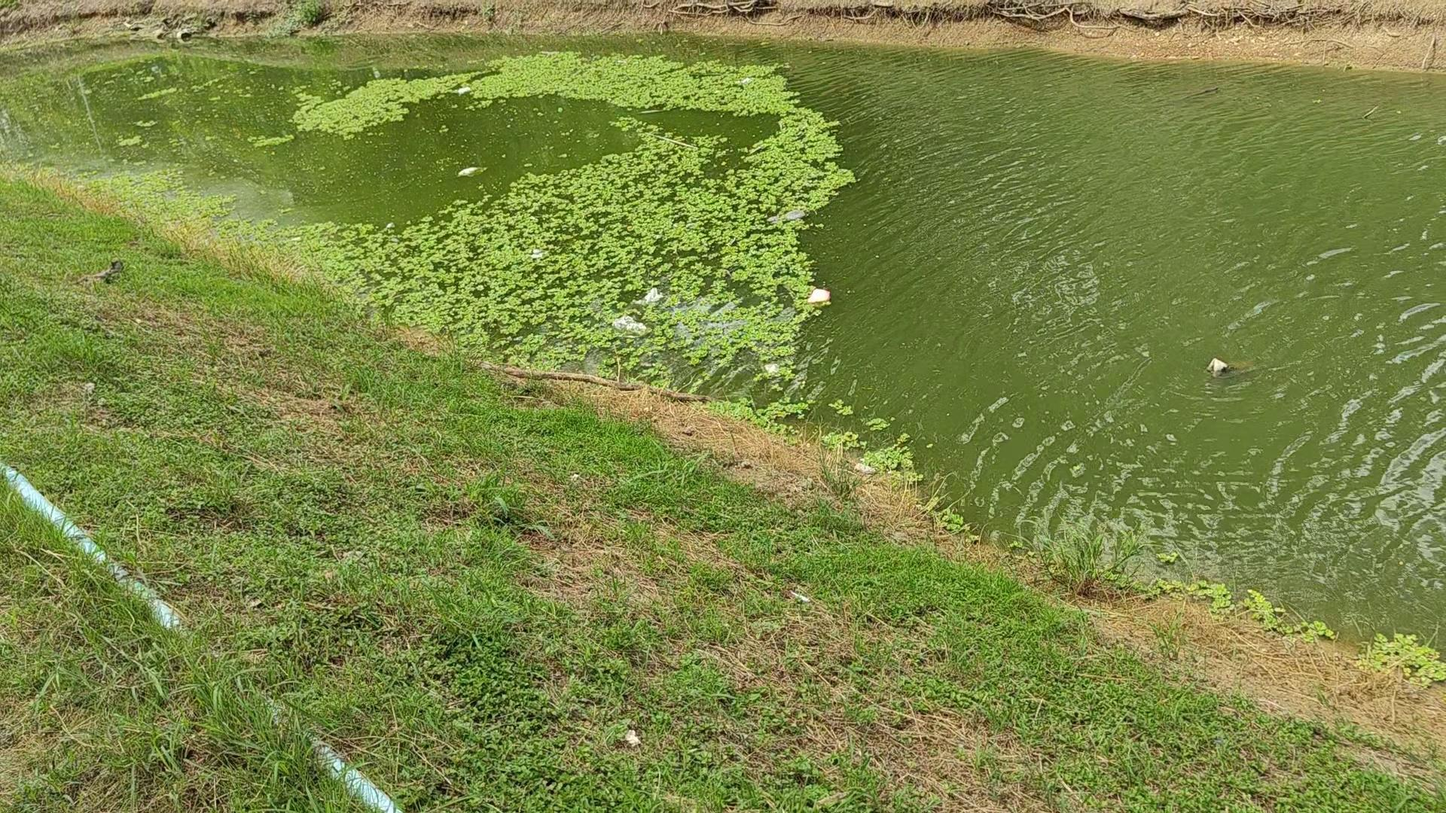trash: (612, 315, 648, 334), (1207, 358, 1230, 376), (807, 288, 830, 304), (642, 288, 662, 304), (782, 210, 805, 220), (458, 166, 480, 176), (764, 363, 779, 373), (455, 86, 471, 95), (737, 77, 753, 84), (532, 249, 544, 258)
